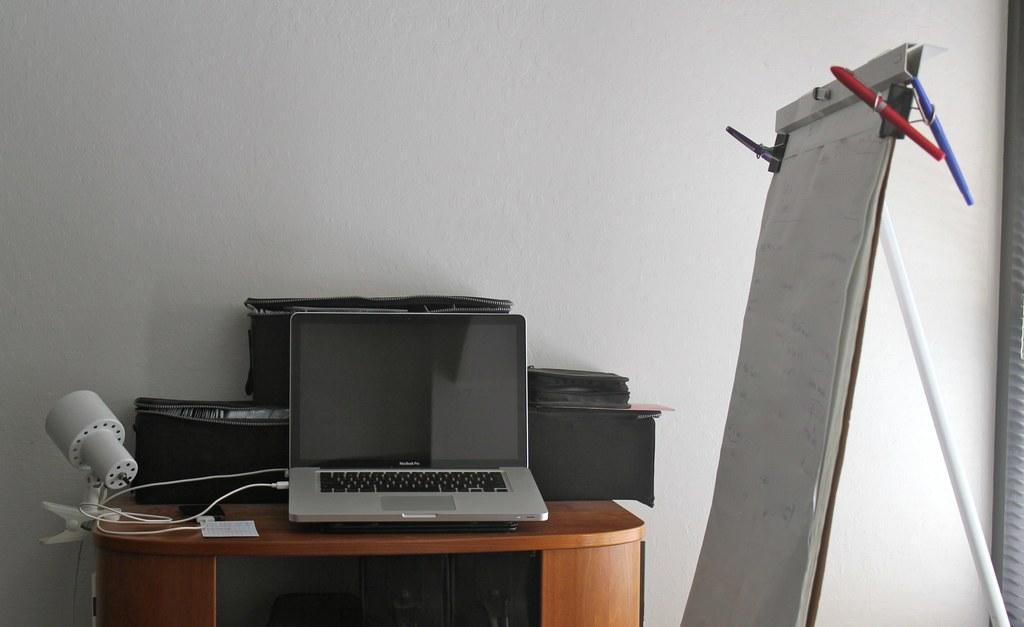Laptop: (266, 302, 557, 550)
